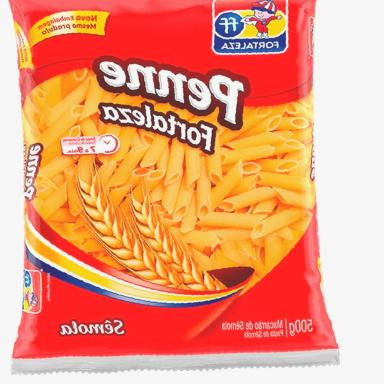pasta package: (10, 0, 338, 372)
